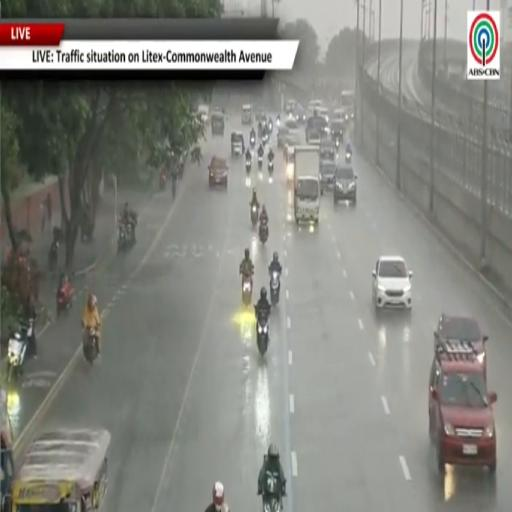car: (429, 341, 497, 475), (434, 313, 488, 374), (372, 255, 412, 310), (333, 163, 357, 204), (305, 116, 327, 145), (209, 156, 228, 188), (319, 160, 336, 191), (320, 137, 337, 162), (331, 119, 345, 148), (285, 146, 295, 183), (317, 107, 330, 135), (211, 110, 224, 136), (231, 132, 245, 156), (284, 117, 299, 137), (277, 126, 288, 148), (285, 132, 300, 147), (308, 100, 323, 115), (307, 130, 321, 146), (295, 104, 306, 124), (198, 104, 209, 123), (242, 104, 252, 124), (285, 99, 297, 115), (285, 117, 298, 131), (333, 108, 347, 120), (255, 107, 266, 122)
jeepney: (11, 429, 110, 511)
motorcycle: (7, 319, 34, 382), (263, 472, 282, 511), (255, 308, 269, 356), (57, 282, 74, 315), (83, 327, 98, 364), (117, 222, 133, 253), (48, 240, 59, 271), (270, 271, 279, 306), (242, 276, 252, 306), (259, 220, 268, 245), (251, 204, 258, 227), (159, 173, 166, 189), (178, 161, 184, 179), (334, 136, 340, 150), (172, 179, 176, 199), (258, 155, 263, 169), (246, 159, 251, 173), (268, 159, 273, 173), (345, 152, 351, 163), (262, 133, 268, 144), (250, 135, 255, 147), (268, 122, 273, 133), (276, 116, 280, 128)
truck: (294, 146, 321, 223)
